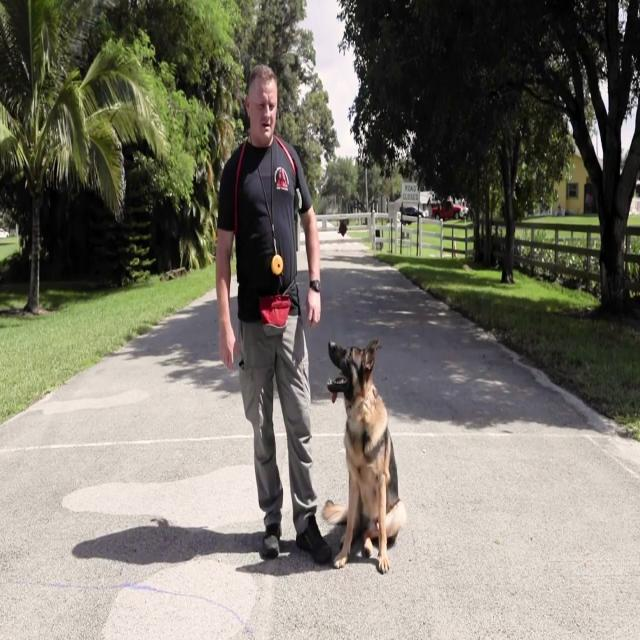Unleashed_Dog: (249, 312, 406, 574)
